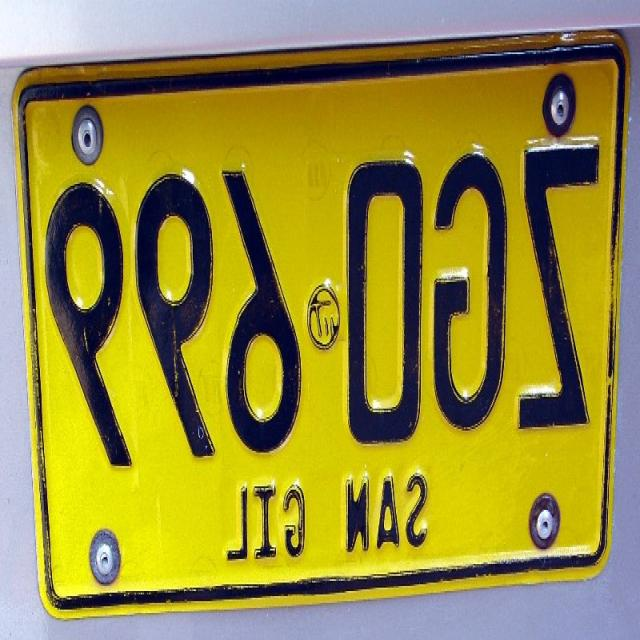placas: (31, 122, 614, 481)
